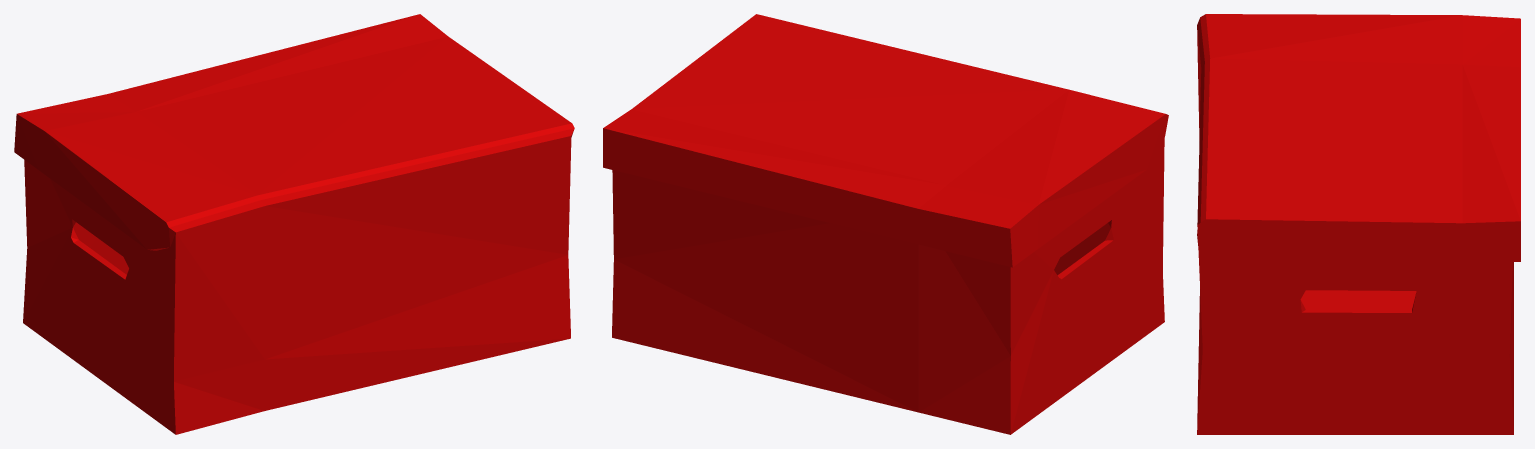
3 views of the same model, side by side, from view 1: azimuth 30°, elevation 25°; view 2: azimuth 150°, elevation 25°; view 3: azimuth 270°, elevation 25° (orthographic). The views are drawn at different scales.
Visible parts, largest first — view 1: Mesh; view 2: Mesh; view 3: Mesh.
Boxes of the visible parts, x1=… form: Mesh: x1=14, y1=14, x2=574, y2=434; Mesh: x1=603, y1=14, x2=1168, y2=434; Mesh: x1=1197, y1=14, x2=1520, y2=434.
Bounding box in the file's own units: 1.2 × 0.6028 × 0.8.
